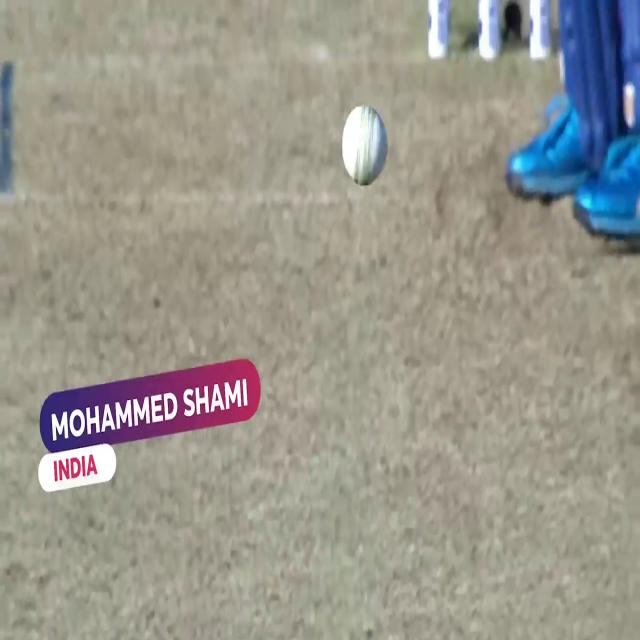ball: (340, 103, 388, 186)
